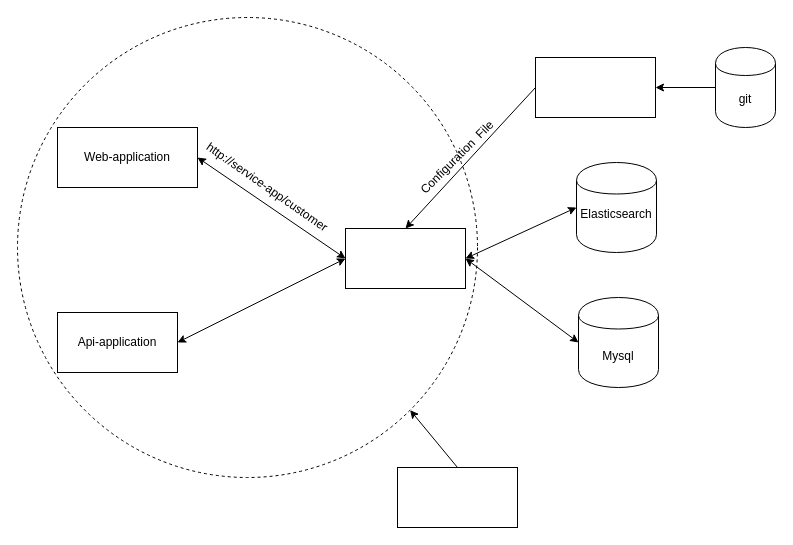
Image size: 793x545. Some labels were removed from this diagram. Each missing label, with the box of its shape:
Config-sever: (534, 56, 656, 118)
Eureka-server: (396, 466, 518, 528)
Service-application: (344, 228, 466, 288)
